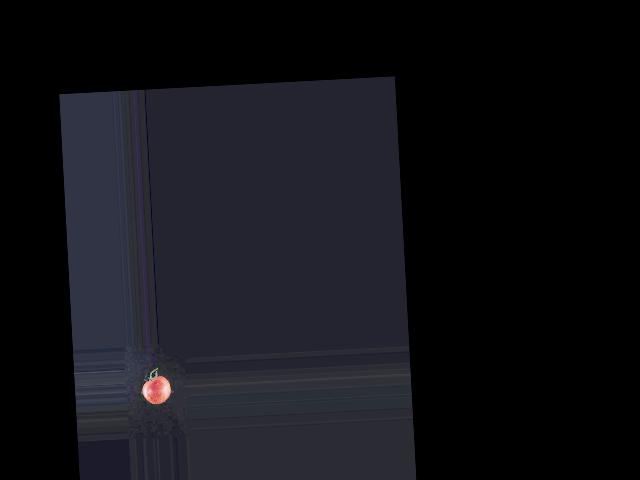tomato: (142, 375, 171, 404)
